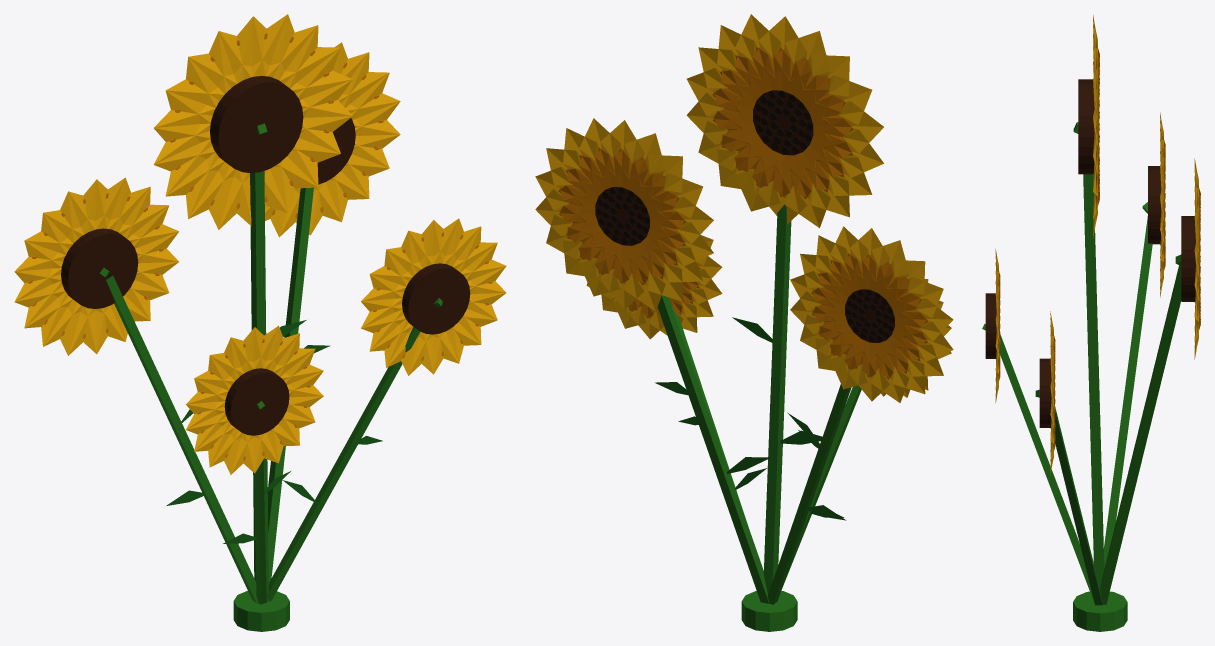
Rendered from Sunflower.obj.
3 renders of one model, left to right at view 1: azimuth 30°, elevation 25°; view 2: azimuth 150°, elevation 25°; view 3: azimuth 270°, elevation 25°, orthographic. The views are drawn at different scales.
Parts seen in each view (by area): view 1: SM_Plant_Sunflower_Bush_01; view 2: SM_Plant_Sunflower_Bush_01; view 3: SM_Plant_Sunflower_Bush_01.
Part boxes in pixels (x1,y1,x2,y2): SM_Plant_Sunflower_Bush_01: (14, 14, 506, 631); SM_Plant_Sunflower_Bush_01: (535, 14, 953, 631); SM_Plant_Sunflower_Bush_01: (982, 15, 1200, 631).
Size of the model in its own units: 71.53 by 95.64 by 32.11.
